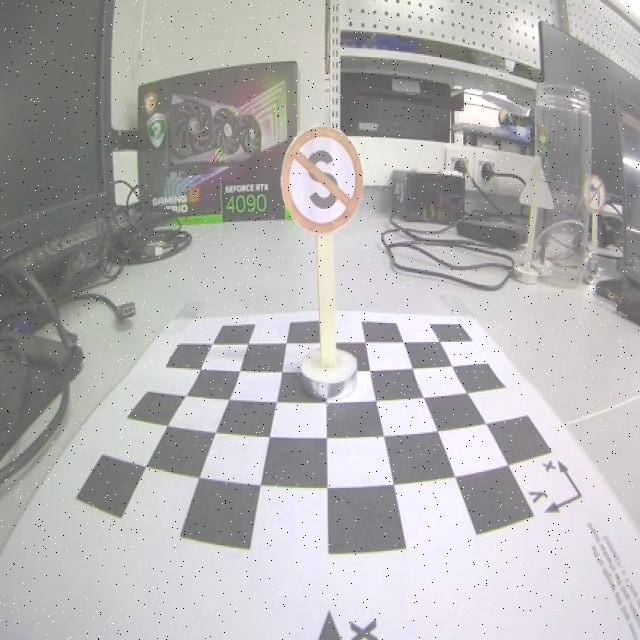Rambu Berhenti: (280, 126, 362, 232)
